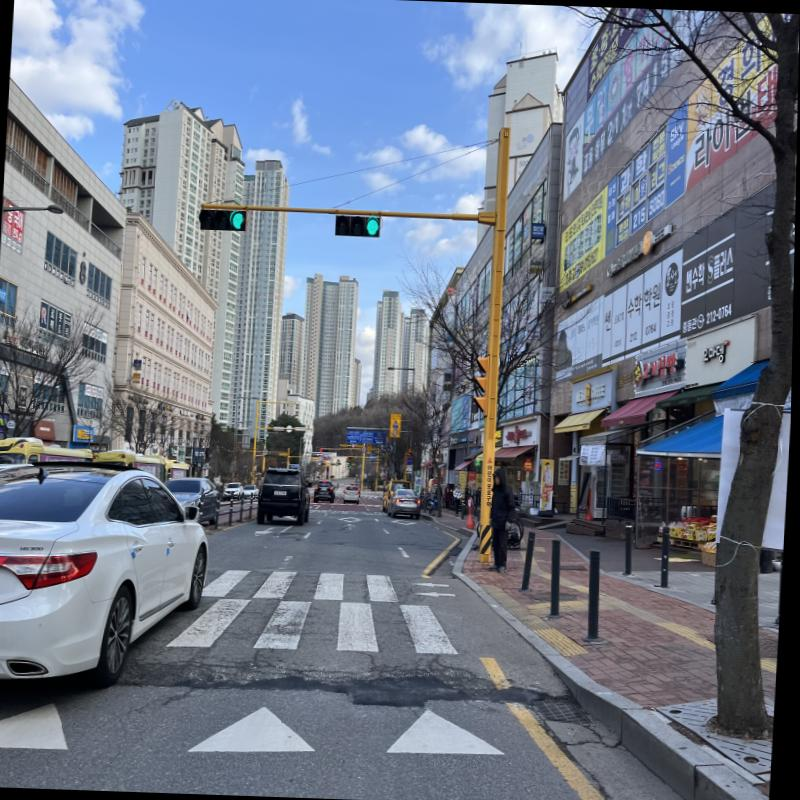green: (229, 212, 247, 230), (366, 217, 380, 236)
